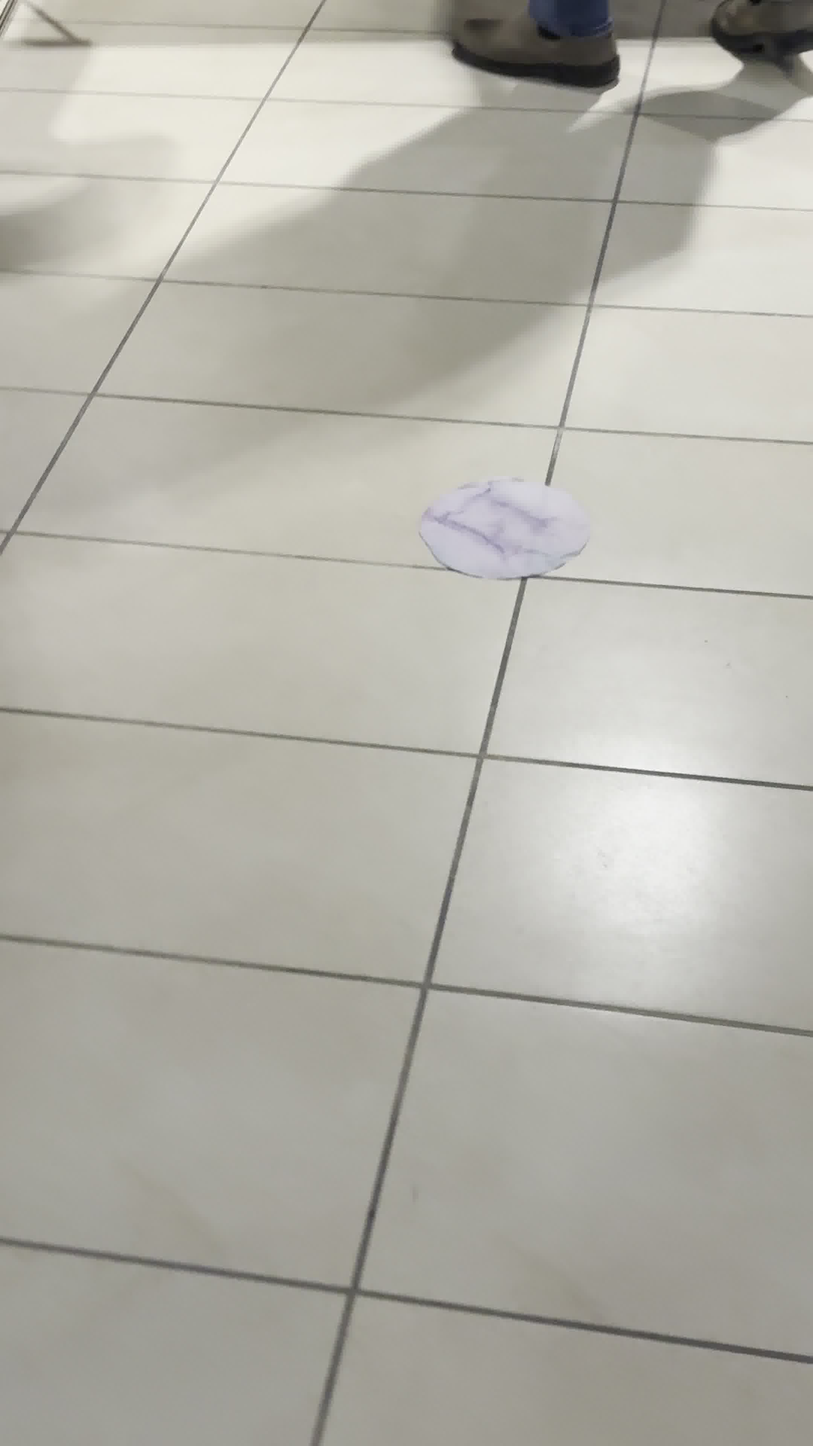Target: (416, 470, 588, 581)
